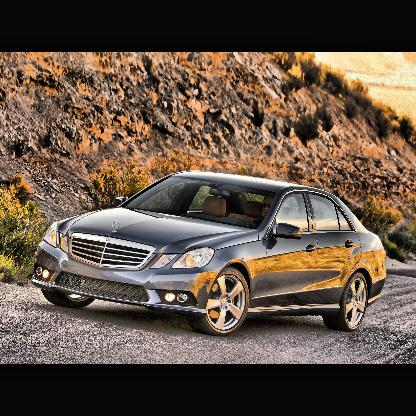Mercedes-Benz E-Class Sedan 2012: (34, 171, 387, 336)
